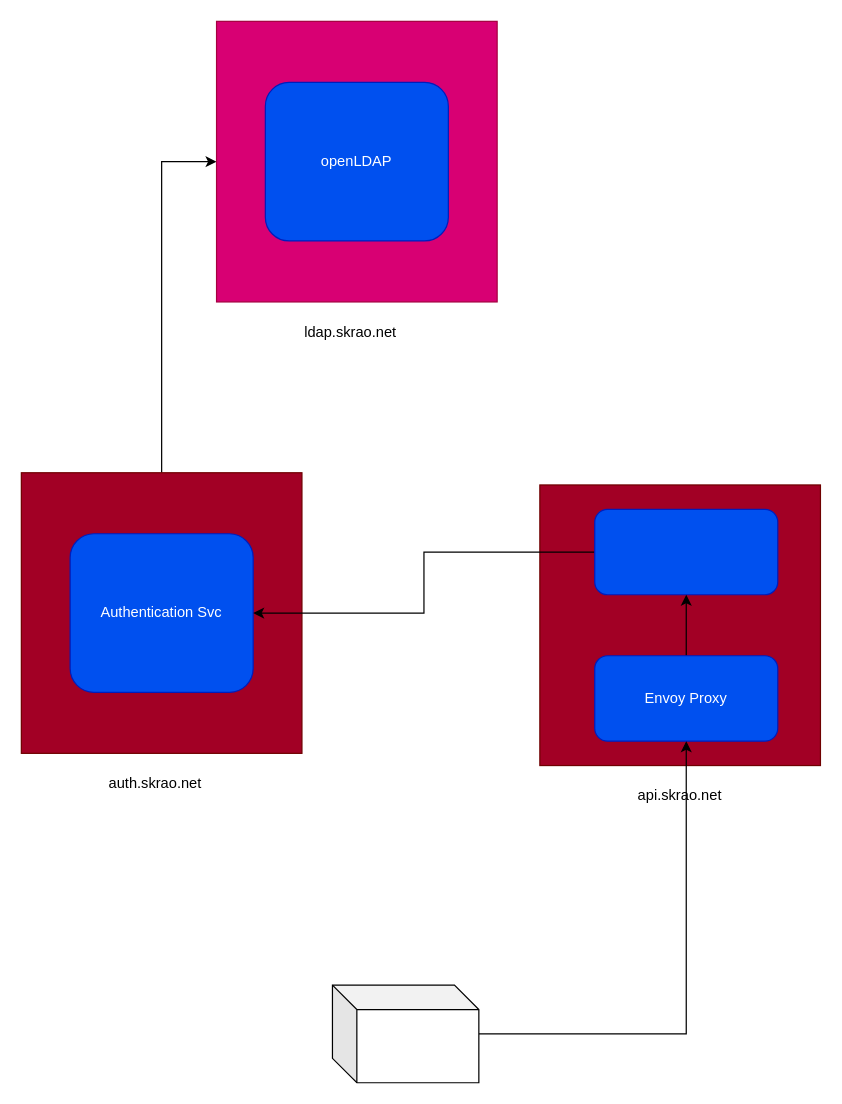
Some shapes in this 842 by 1104 pixel diagram are drawn without their labels. Here are the shapes that lost their labels. From the top down, the centre of each, then its label:
At point (686, 551): "external-authz (grpc)".
At point (405, 1033): "Browser".
